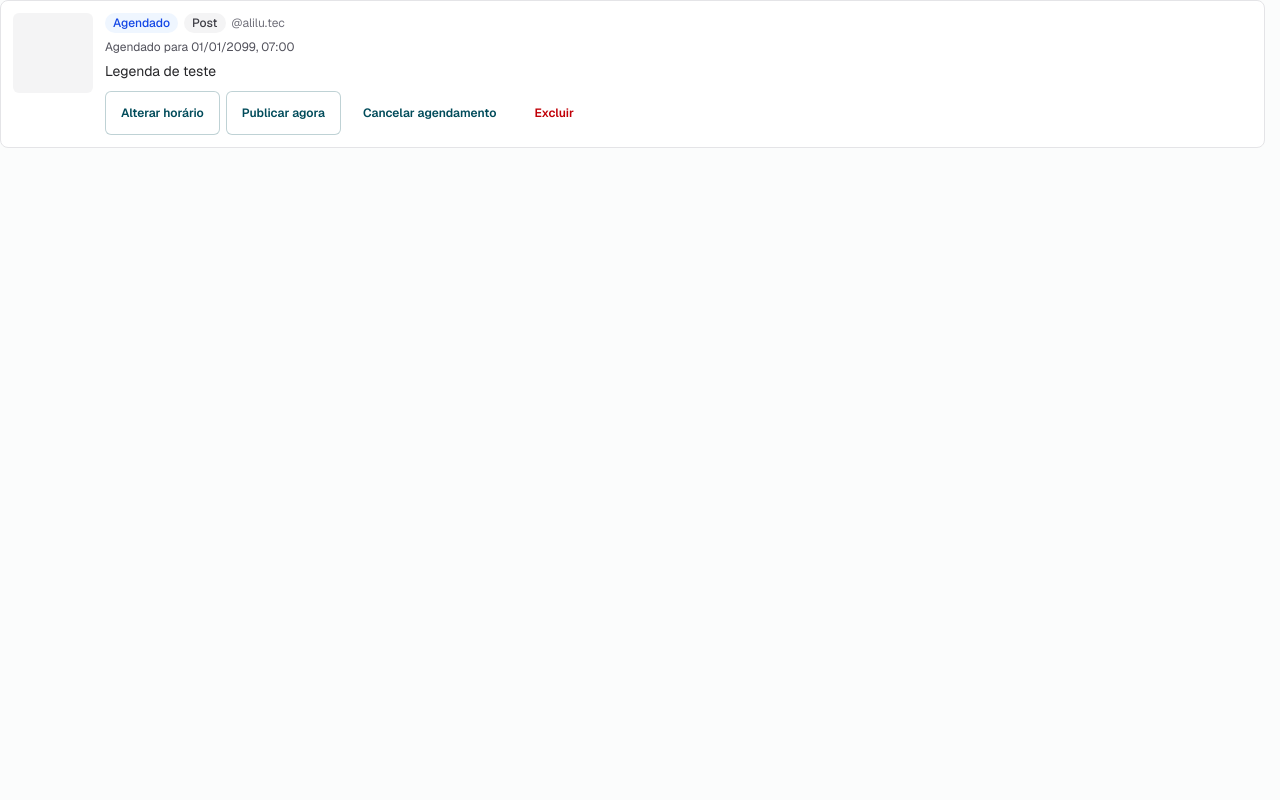
Test case: CalendarPostCard › alterar horário envia o novo instante com o fuso do navegador
Click the button "Alterar horário".
click(162, 113)  # box [105,91,220,135]
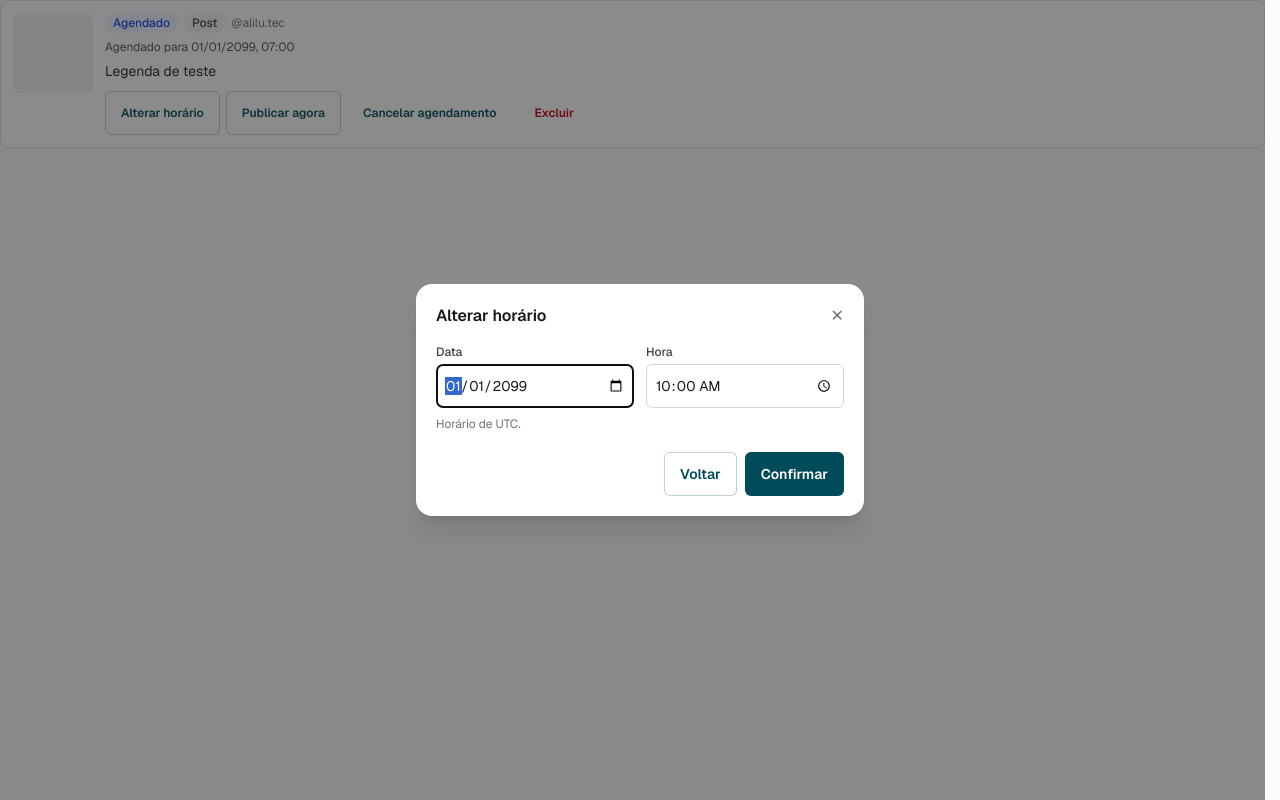
Type "2099-02-03" into the date field labelled "Data".
click(535, 386); type("2099-02-03")  # box [436,364,634,408]
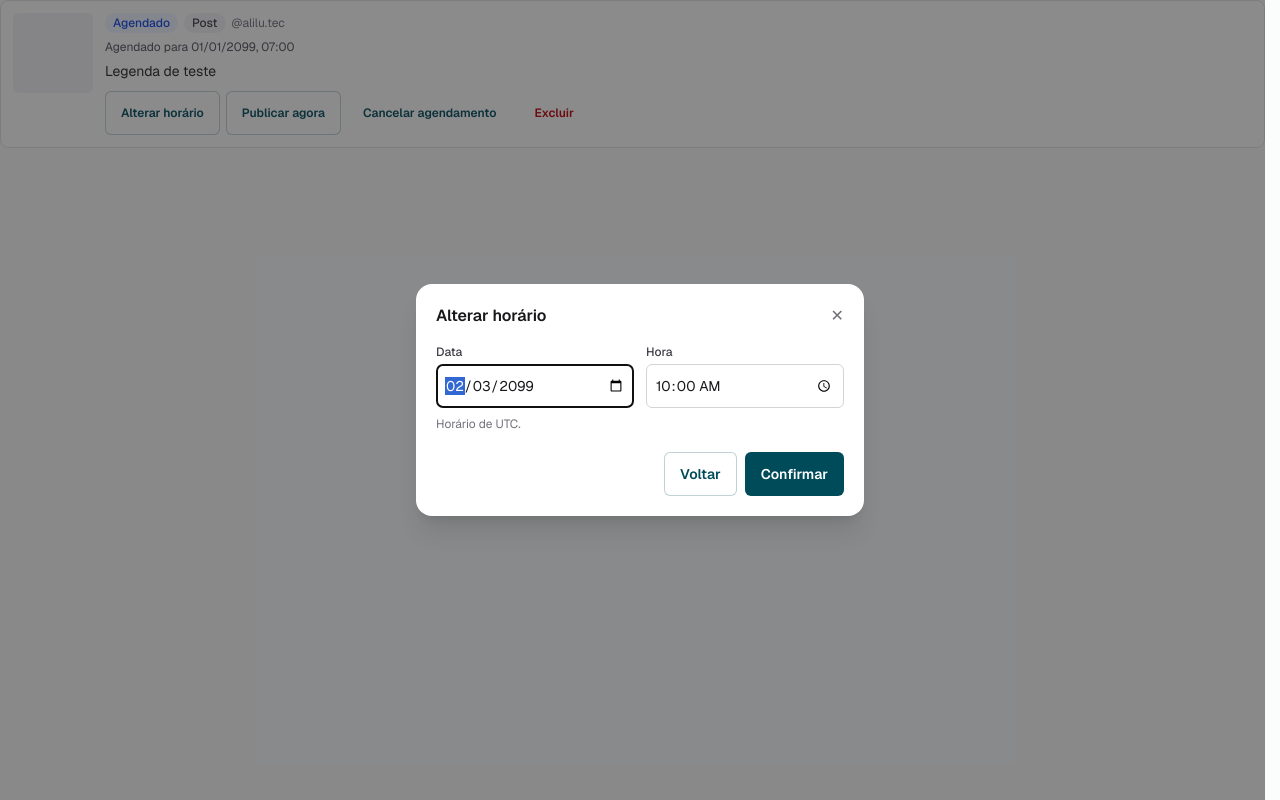
Replace the text in the time field labelled "Hora" with "09:15" at (745, 386), box [646,364,844,408]
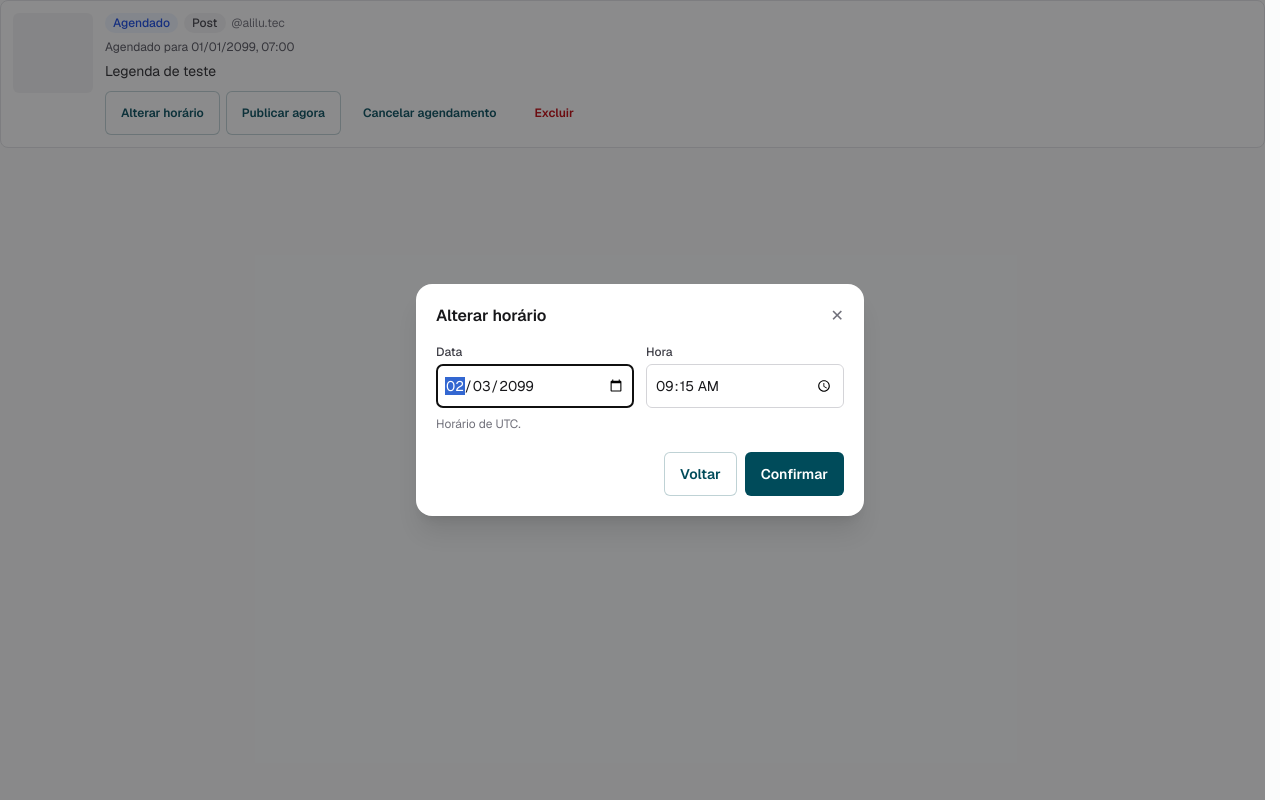
Click the button "Confirmar".
click(794, 474)  # box [745,452,844,496]
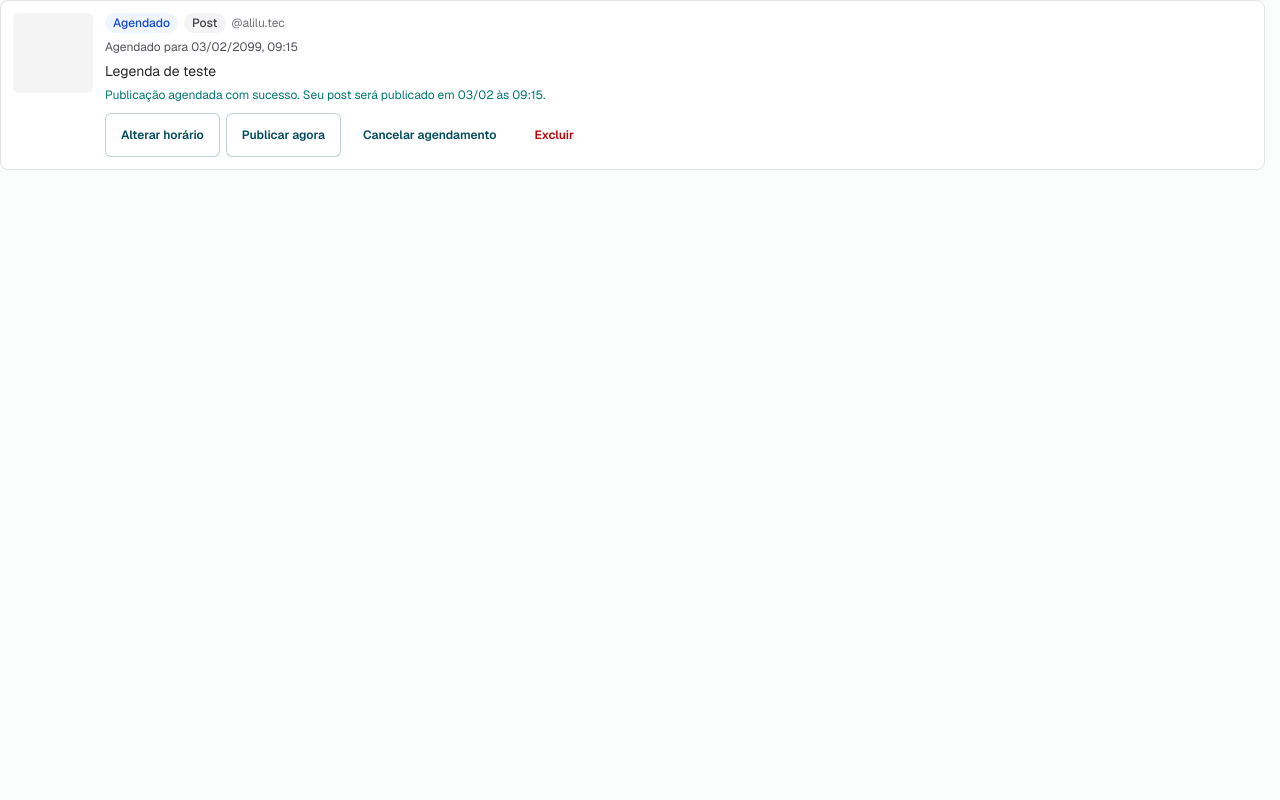
Now the text "Publicação agendada com sucesso. Seu post será publicado em 03/02 às 09:15." is shown, box [105,87,546,103]
